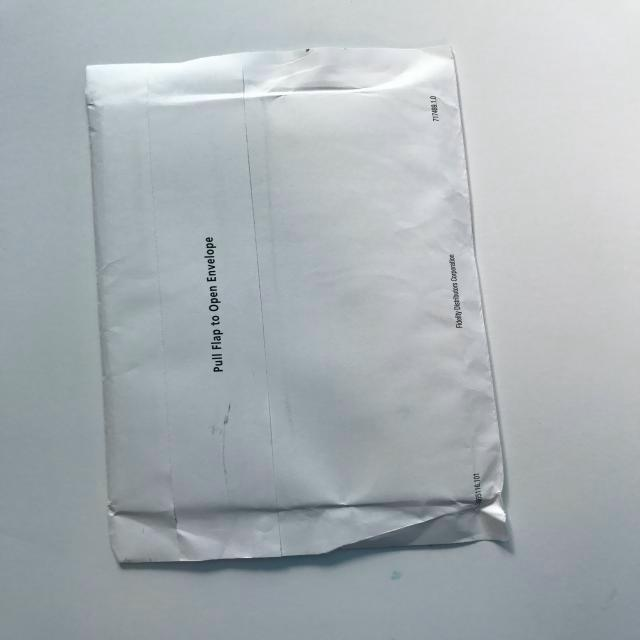paper: (73, 32, 549, 581)
